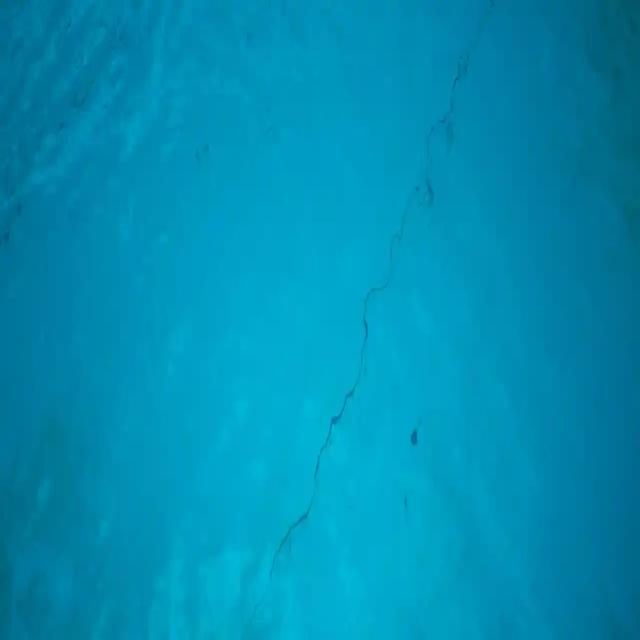crack: (268, 31, 473, 584), (249, 594, 262, 623)
